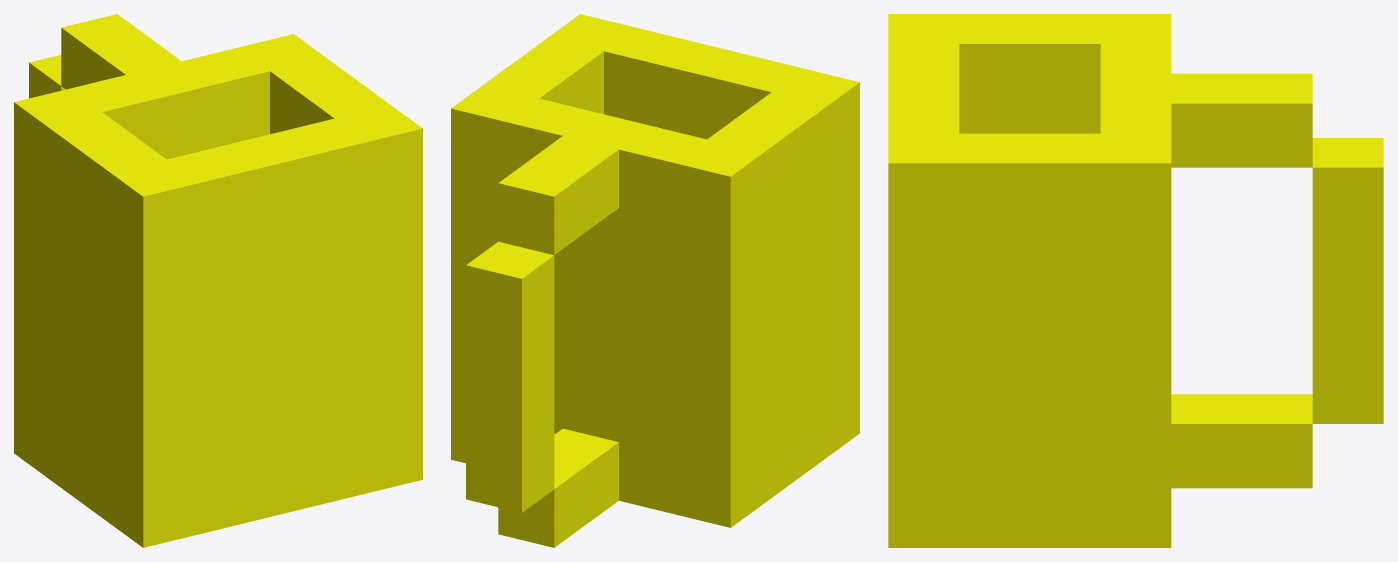
Rendered from voxel-village-beer-glass.glb.
3 views of the same model, side by side, from view 1: azimuth 30°, elevation 25°; view 2: azimuth 150°, elevation 25°; view 3: azimuth 270°, elevation 25° (orthographic). The views are drawn at different scales.
Parts seen in each view (by area): view 1: VS_Villagers_BeerGlass; view 2: VS_Villagers_BeerGlass; view 3: VS_Villagers_BeerGlass.
Boxes of the visible parts, box(x1,y1,x2,y2) form: VS_Villagers_BeerGlass: box(14, 14, 422, 547); VS_Villagers_BeerGlass: box(451, 14, 859, 547); VS_Villagers_BeerGlass: box(888, 14, 1383, 547).
Bounding box in the file's own units: 0.5 × 0.6 × 0.7.
